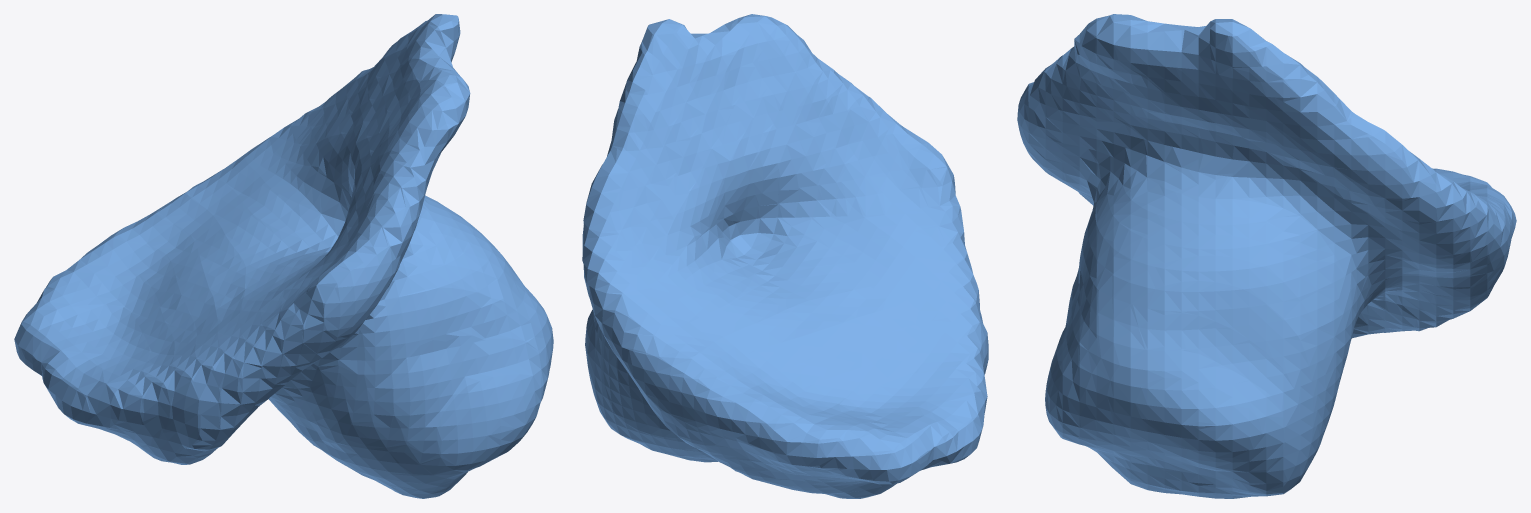
The model's file is water_0018.glb.
3 views of the same model, side by side, from view 1: azimuth 30°, elevation 25°; view 2: azimuth 150°, elevation 25°; view 3: azimuth 270°, elevation 25° (orthographic). The views are drawn at different scales.
Visible parts, largest first — view 1: Water_0018; view 2: Water_0018; view 3: Water_0018.
Part boxes in pixels (x1=…): Water_0018: x1=14, y1=14, x2=553, y2=498; Water_0018: x1=582, y1=14, x2=988, y2=498; Water_0018: x1=1017, y1=14, x2=1516, y2=498.
Size of the model in its own units: 1.91 by 1.87 by 1.71.
